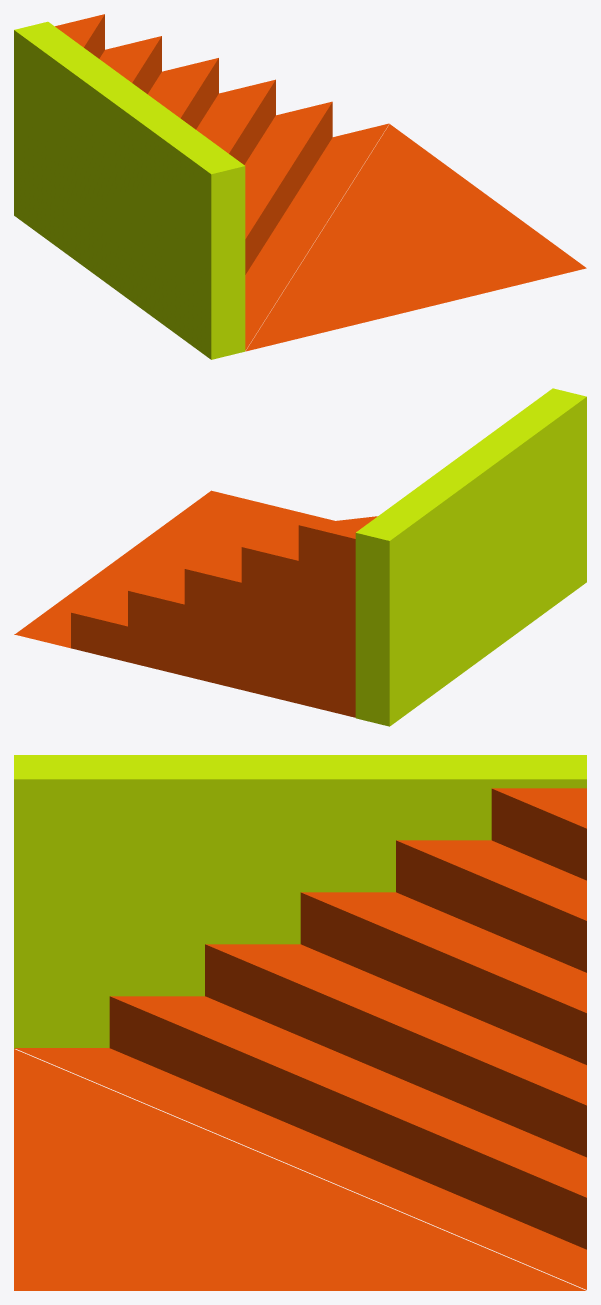
The picture shows the model from 3 angles, top to bottom: view 1: azimuth 30°, elevation 25°; view 2: azimuth 150°, elevation 25°; view 3: azimuth 270°, elevation 25°; orthographic projection. The views are drawn at different scales.
Visible parts, largest first — view 1: T_2_e_0; view 2: T_2_e_0; view 3: T_2_e_0.
Part boxes in pixels (left/top/right/bottom): T_2_e_0: left=14, top=14, right=586, bottom=359; T_2_e_0: left=14, top=388, right=586, bottom=726; T_2_e_0: left=14, top=755, right=586, bottom=1290.
Bounding box in the file's own units: 110 × 51.83 × 99.81.
